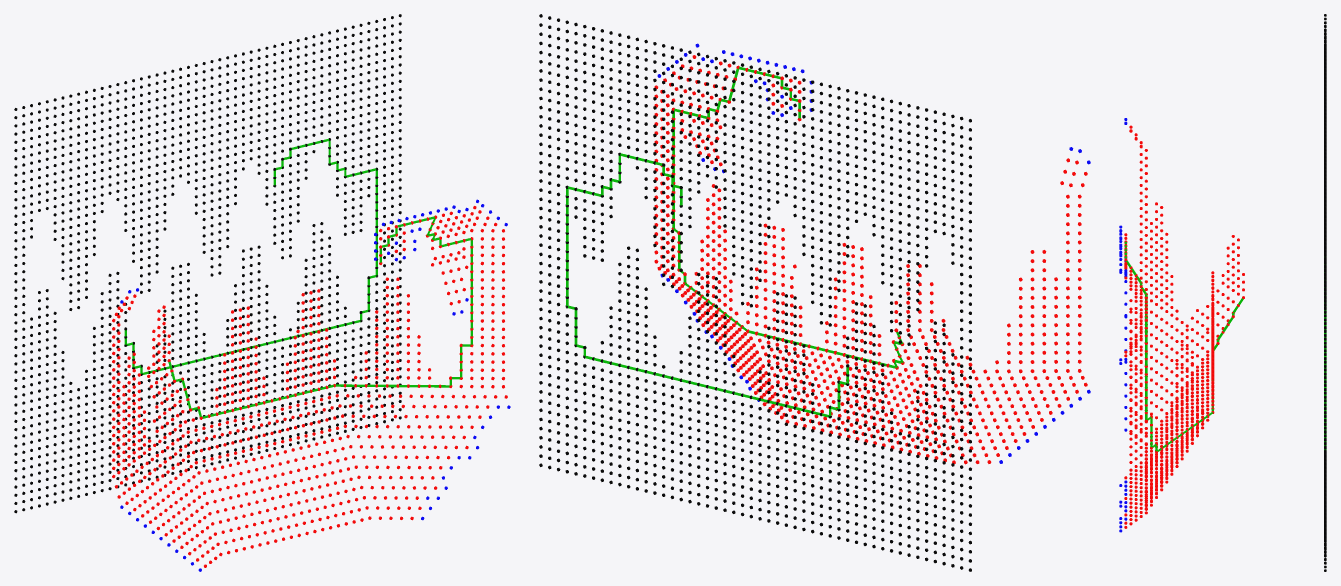
The model's file is PerfectPath.glb.
3 renders of one model, left to right at view 1: azimuth 30°, elevation 25°; view 2: azimuth 150°, elevation 25°; view 3: azimuth 270°, elevation 25°, orthographic. The views are drawn at different scales.
Bounding box in the file's own units: 1.01 × 1.01 × 0.4969.
